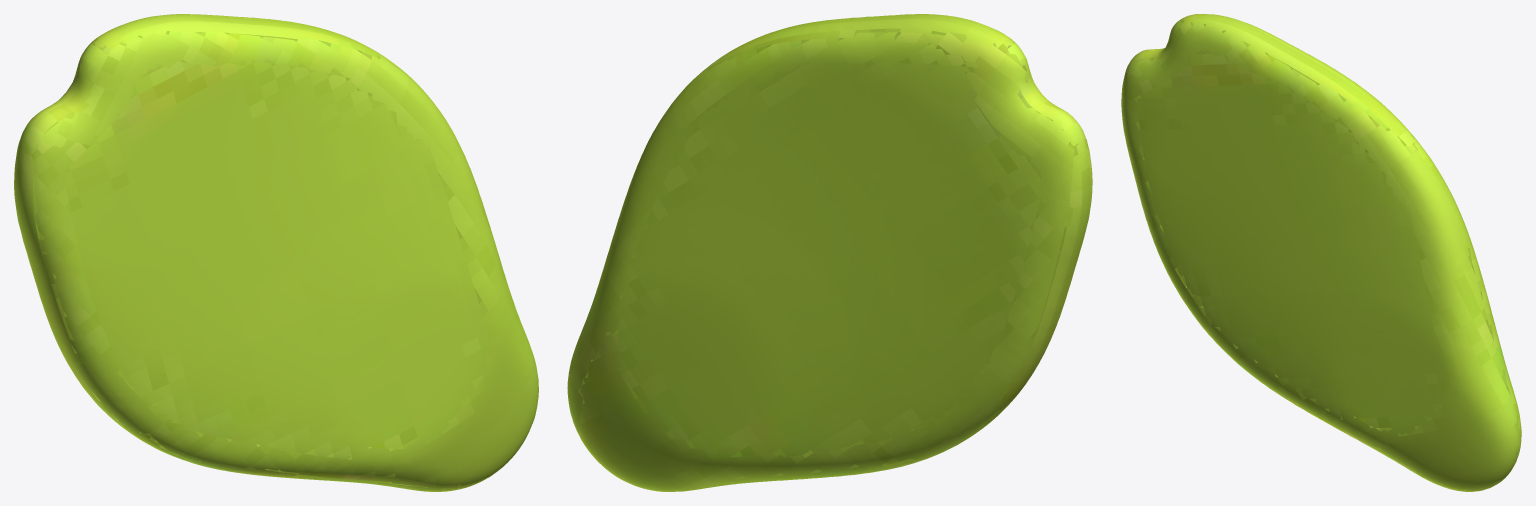
Rendered from petal-transformed.glb.
3 renders of one model, left to right at view 1: azimuth 30°, elevation 25°; view 2: azimuth 150°, elevation 25°; view 3: azimuth 330°, elevation 25°, orthographic. The views are drawn at different scales.
Visible parts, largest first — view 1: Petal; view 2: Petal; view 3: Petal.
Boxes of the visible parts, left/top/right/bottom form: Petal: left=14, top=14, right=538, bottom=491; Petal: left=567, top=14, right=1092, bottom=491; Petal: left=1121, top=14, right=1521, bottom=491.
Bounding box in the file's own units: 19.17 × 19.17 × 3.21.
1 material, 1 textured.
